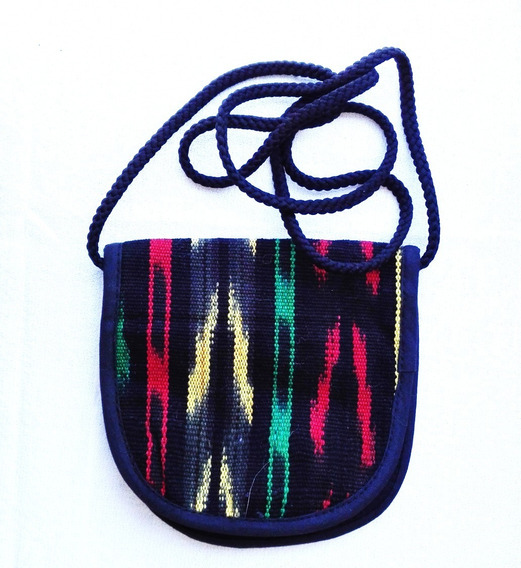cartera: (84, 44, 444, 553)
